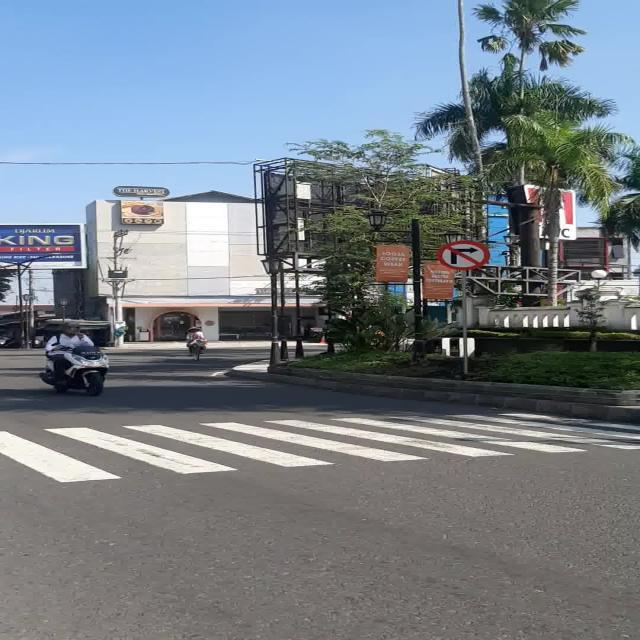Dilarang Belok Kanan: (438, 241, 490, 270)
